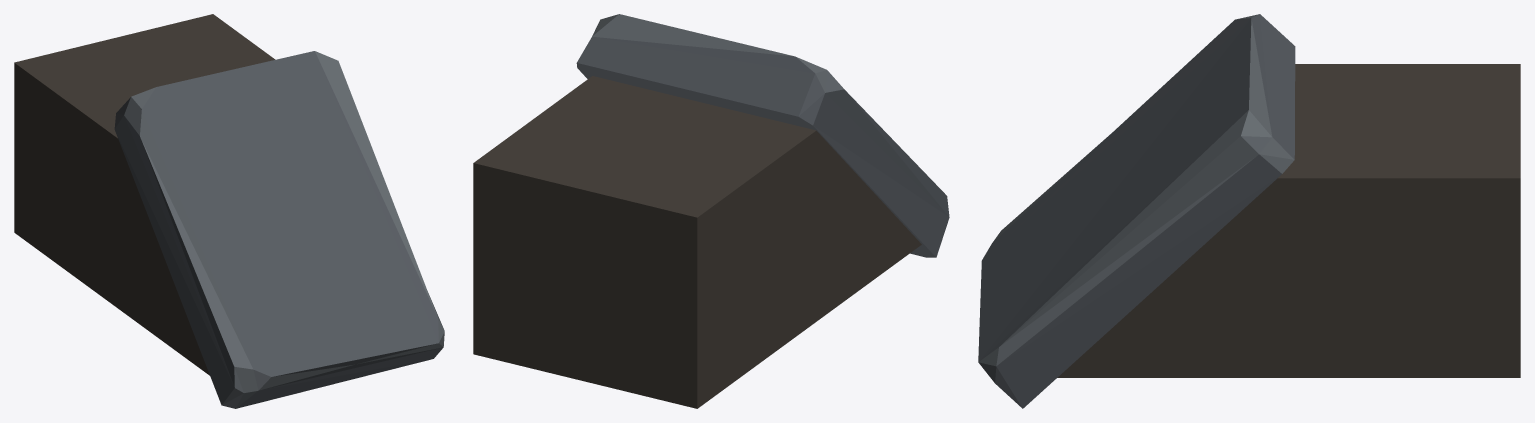
Rendered from MCastle_MasonrySupports_01.FBX.
3 views of the same model, side by side, from view 1: azimuth 30°, elevation 25°; view 2: azimuth 150°, elevation 25°; view 3: azimuth 270°, elevation 25° (orthographic). The views are drawn at different scales.
Visible parts, largest first — view 1: MCastle_MasonrySupports_01_LOD0; view 2: MCastle_MasonrySupports_01_LOD0; view 3: MCastle_MasonrySupports_01_LOD0.
Boxes of the visible parts, x1,y1,x2,y2 form: MCastle_MasonrySupports_01_LOD0: (14,14,444,408); MCastle_MasonrySupports_01_LOD0: (473,14,949,408); MCastle_MasonrySupports_01_LOD0: (978,14,1520,408).
Size of what is drawn, in the model's own units: 1.06 by 1.18 by 2.01.
